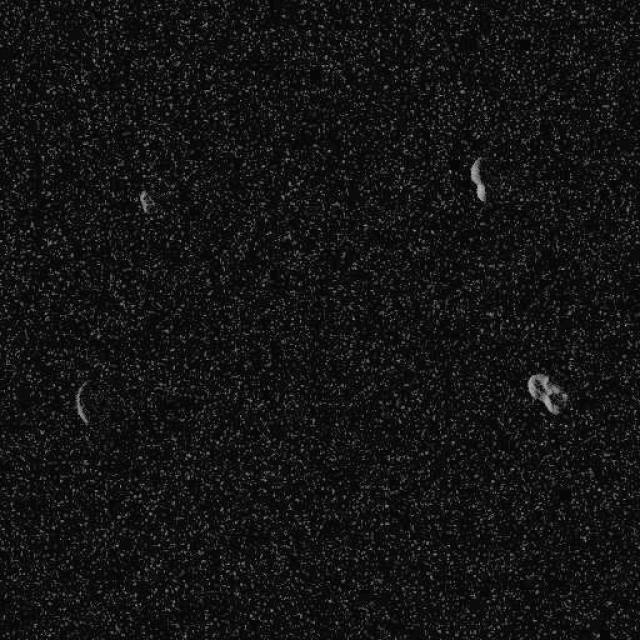D2: (0, 0, 639, 639), (525, 372, 569, 416), (468, 156, 487, 202), (74, 379, 90, 425), (138, 188, 154, 214)
